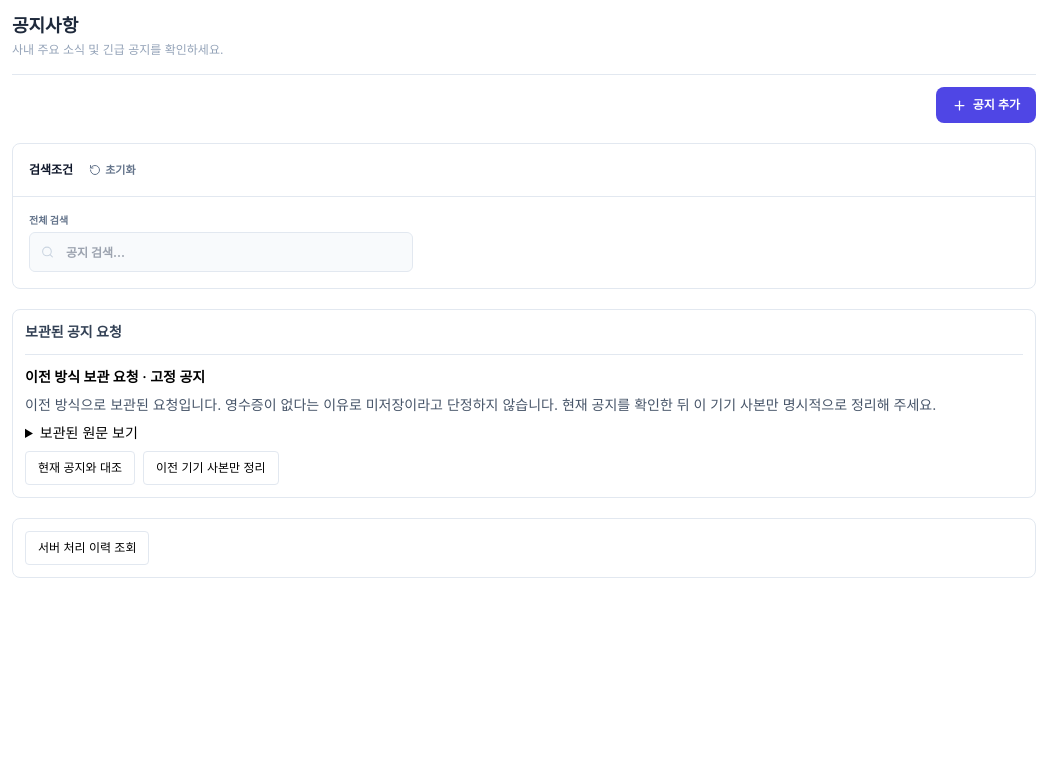
Test case: legacy 현재 부재는 실패로 단정하지 않고 교체된 관측 원문은 정리하지 않는다
The image size is (1048, 780).
Click the button "현재 공지와 대조".
click(80, 468)  # box [25,451,135,485]
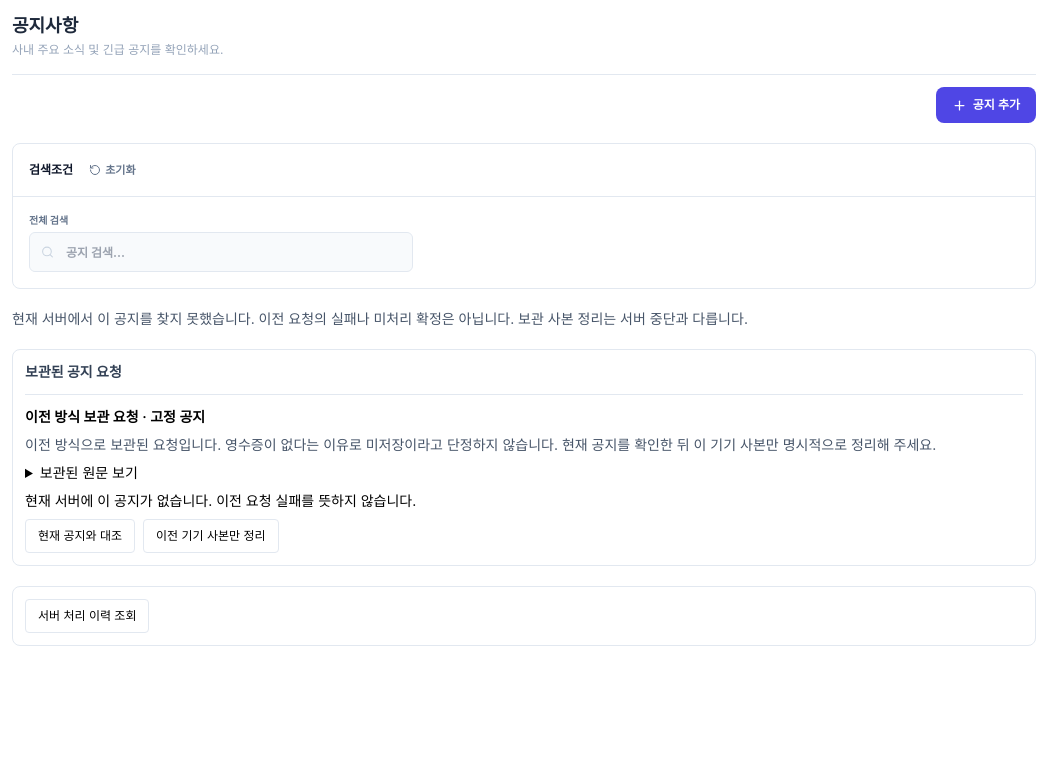
Now the text "현재 서버에 이 공지가 없습니다. 이전 요청 실패를 뜻하지 않습니다." is shown, box [25,492,416,509]
Click the button "이전 기기 사본만 정리".
click(211, 536)  # box [143,519,278,553]
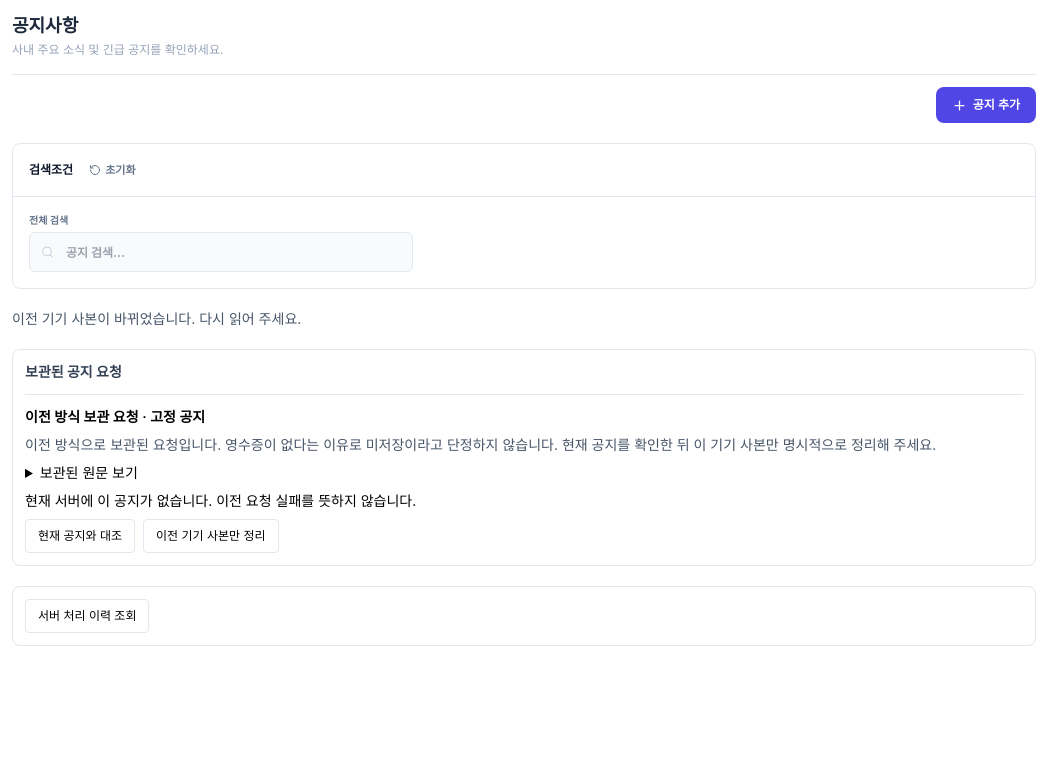
Now the text "이전 기기 사본이 바뀌었습니다. 다시 읽어 주세요." is shown, box [12,310,301,327]
